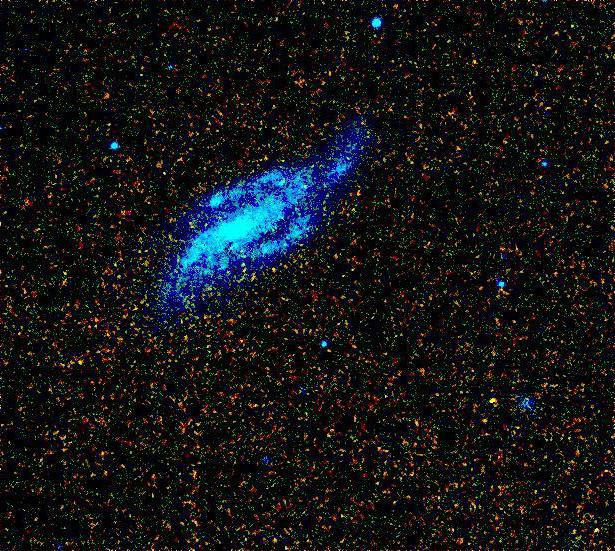star: (482, 385, 512, 415)
